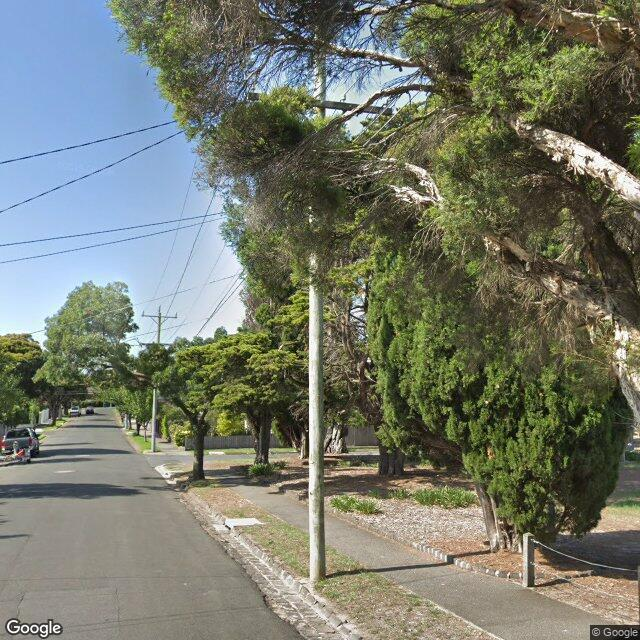HV-transmission: (142, 305, 177, 320)
crossarm: (246, 91, 393, 117), (142, 315, 178, 318)
timber-pole: (307, 17, 327, 584), (151, 385, 156, 452), (158, 305, 161, 343)
